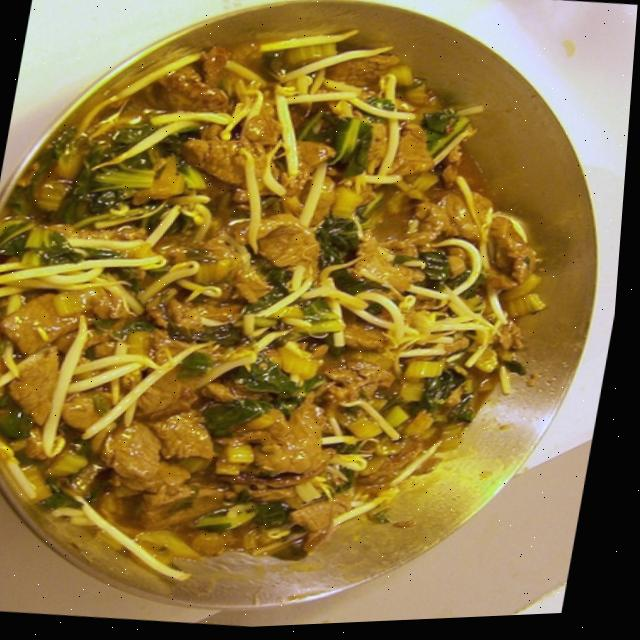牛肉菜式: (0, 1, 606, 613)
